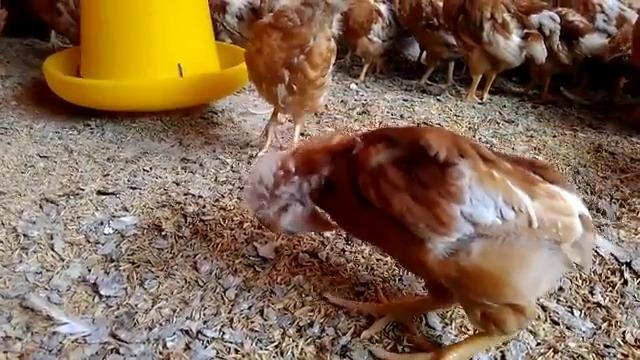AbNormal: (245, 123, 614, 358)
